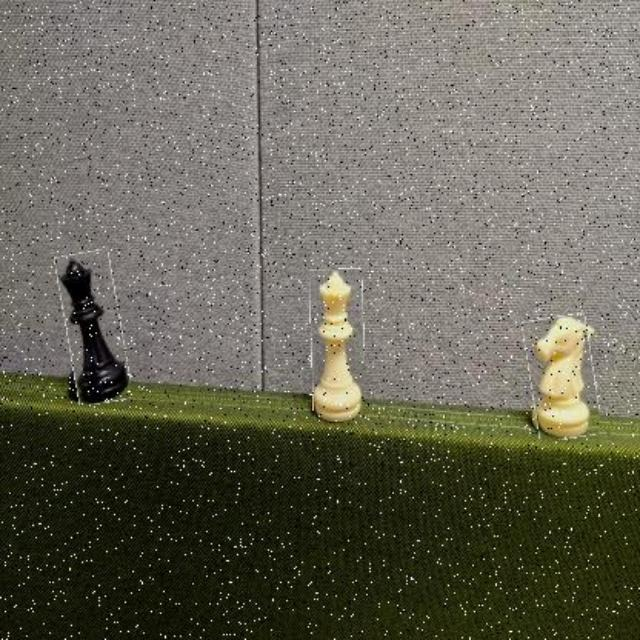black-queen: (60, 251, 126, 404)
white-knight: (527, 315, 597, 441)
white-queen: (311, 268, 364, 421)
